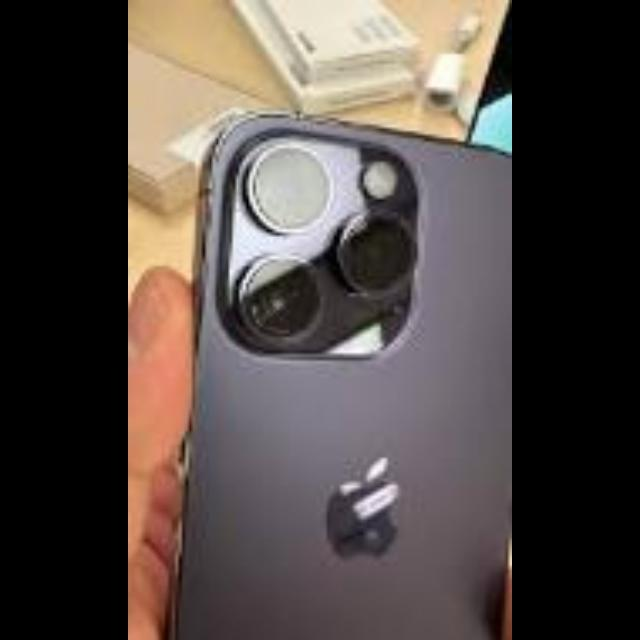Phone: (196, 104, 512, 638)
